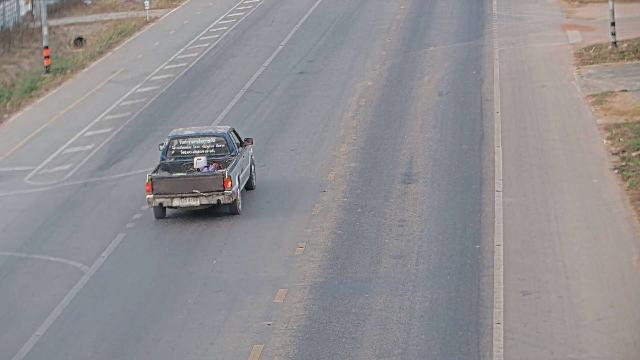pickup-truck: (144, 124, 256, 219)
